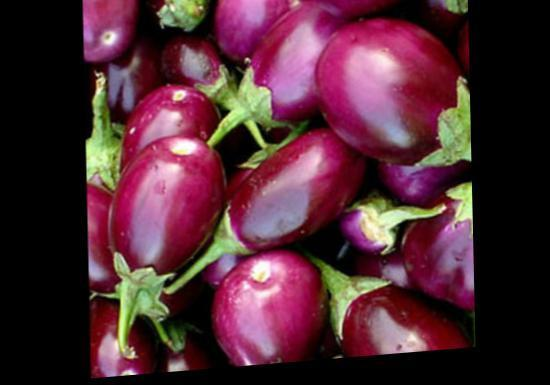eggplant: (84, 0, 474, 379), (84, 99, 238, 342), (318, 18, 470, 188), (202, 118, 351, 276), (319, 254, 474, 364), (288, 0, 434, 19)
